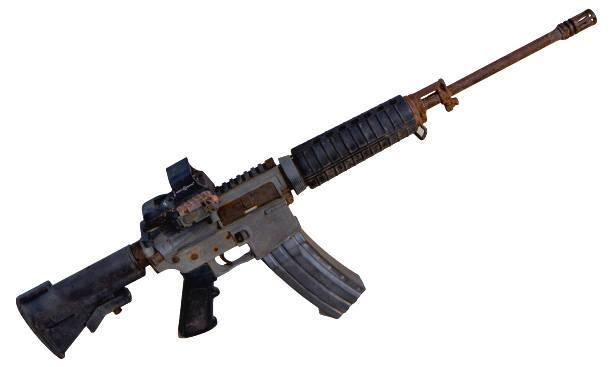larga: (15, 6, 599, 360)
